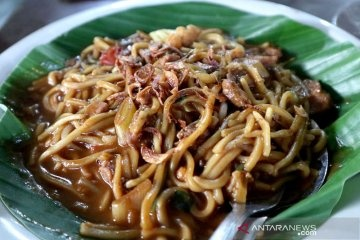mie_aceh: (26, 25, 334, 240)
